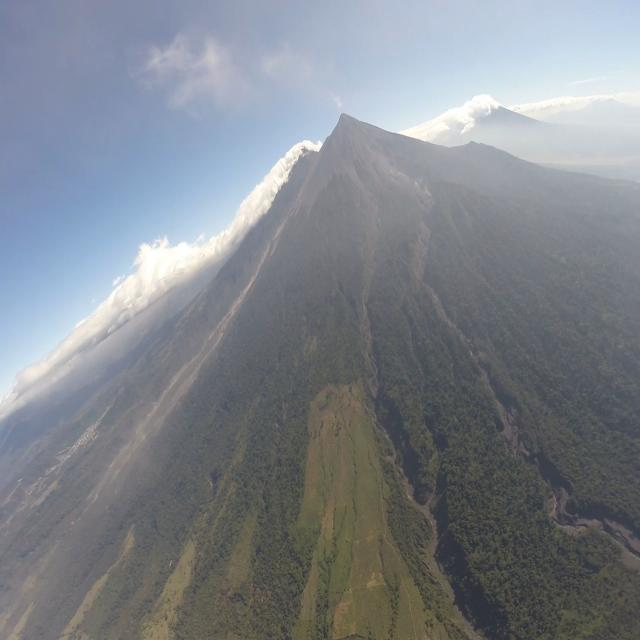Summit: (334, 110, 358, 133)
